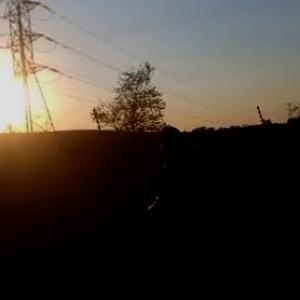follow: (140, 121, 216, 299)
